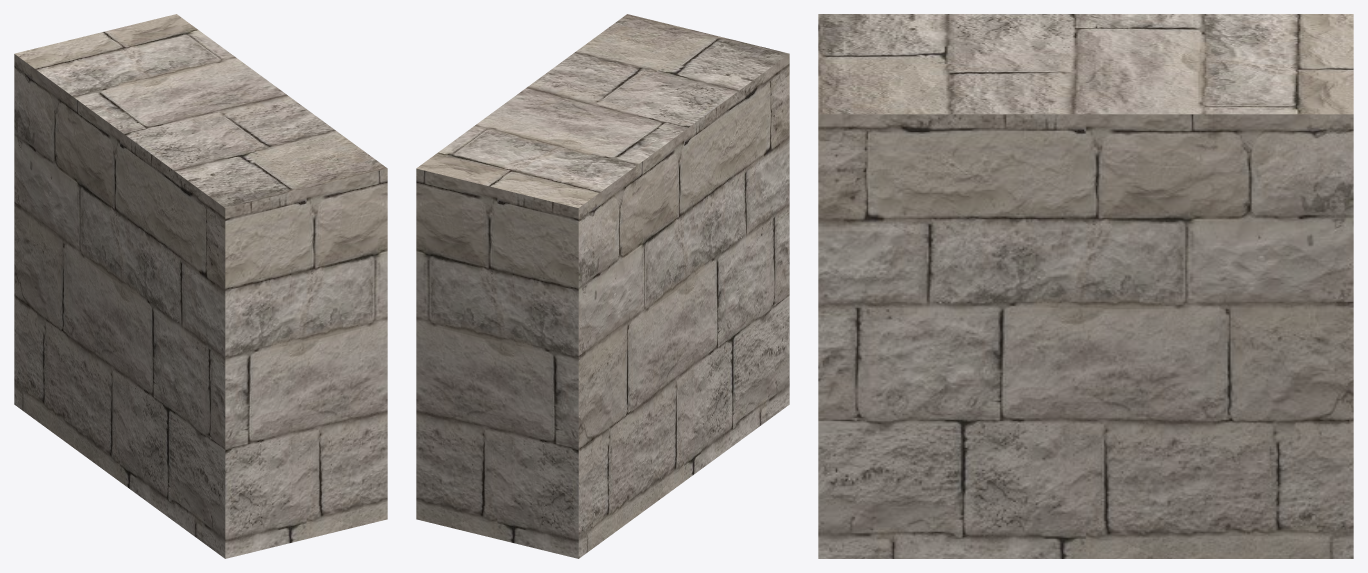
Rendered from room_lintel.glb.
3 renders of one model, left to right at view 1: azimuth 30°, elevation 25°; view 2: azimuth 150°, elevation 25°; view 3: azimuth 270°, elevation 25°, orthographic. The views are drawn at different scales.
Visible parts, largest first — view 1: Deep classroom lintel; view 2: Deep classroom lintel; view 3: Deep classroom lintel.
Boxes of the visible parts, bbox=[...] form: Deep classroom lintel: bbox=[14, 14, 387, 558]; Deep classroom lintel: bbox=[416, 14, 789, 558]; Deep classroom lintel: bbox=[818, 14, 1353, 558].
Bounding box in the file's own units: 0.8 × 1.65 × 1.8.
1 material, 1 textured.
